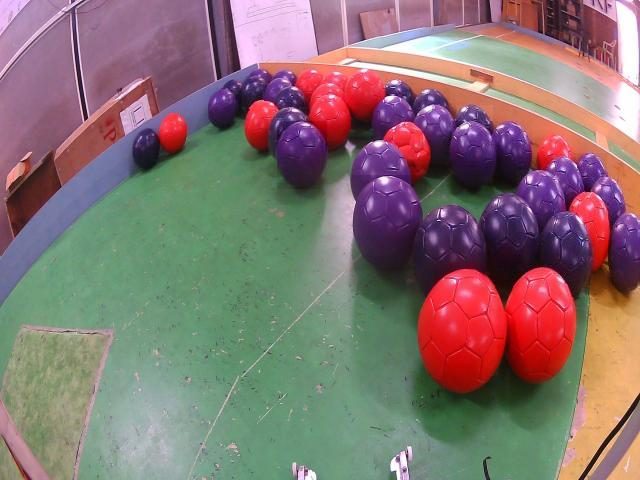jambhalya: (353, 175, 422, 270), (350, 140, 411, 198), (277, 122, 327, 189), (449, 122, 496, 189), (516, 170, 566, 232), (414, 105, 456, 164), (493, 122, 532, 184), (609, 213, 639, 292), (546, 156, 585, 209), (371, 95, 415, 139), (592, 178, 626, 227), (577, 153, 607, 191), (208, 89, 237, 128), (264, 78, 291, 102), (272, 68, 298, 85), (249, 69, 272, 83)
kaalyya: (413, 205, 486, 293), (480, 193, 540, 287), (540, 211, 593, 297), (268, 107, 307, 158), (455, 105, 493, 135), (133, 129, 160, 169), (413, 88, 450, 115), (275, 85, 308, 114), (241, 77, 267, 109), (385, 80, 415, 106), (223, 80, 242, 104)
